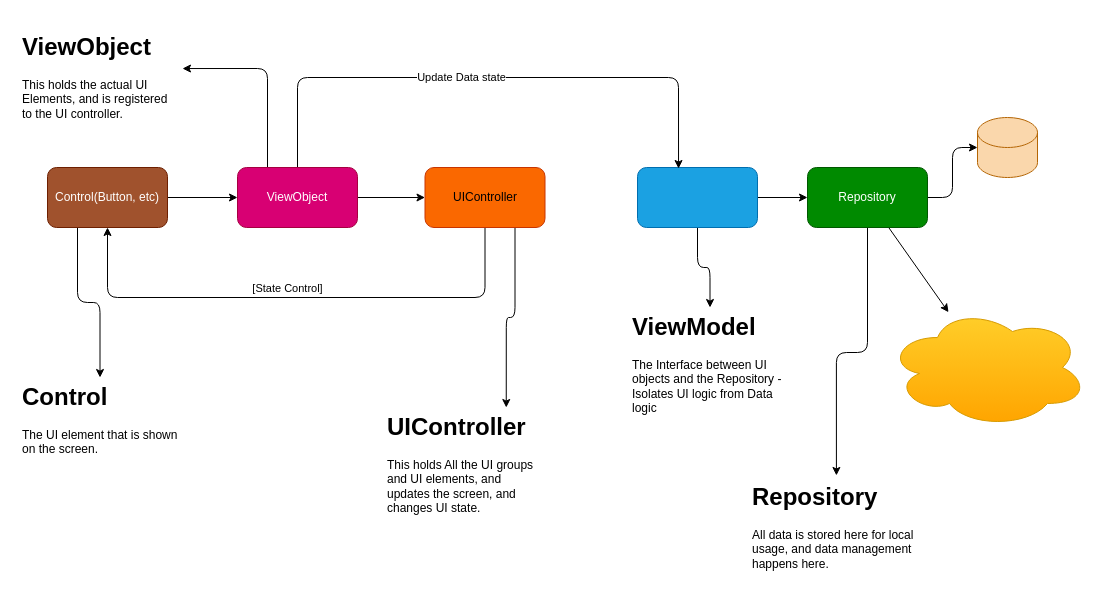
Some shapes in this 1105 by 614 pixel diagram are drawn without their labels. Here are the shapes that lost their labels. From the top down, the centre of each, then its label:
At (697,197): "ViewModel".
At (987,367): "Remote Data Store".
